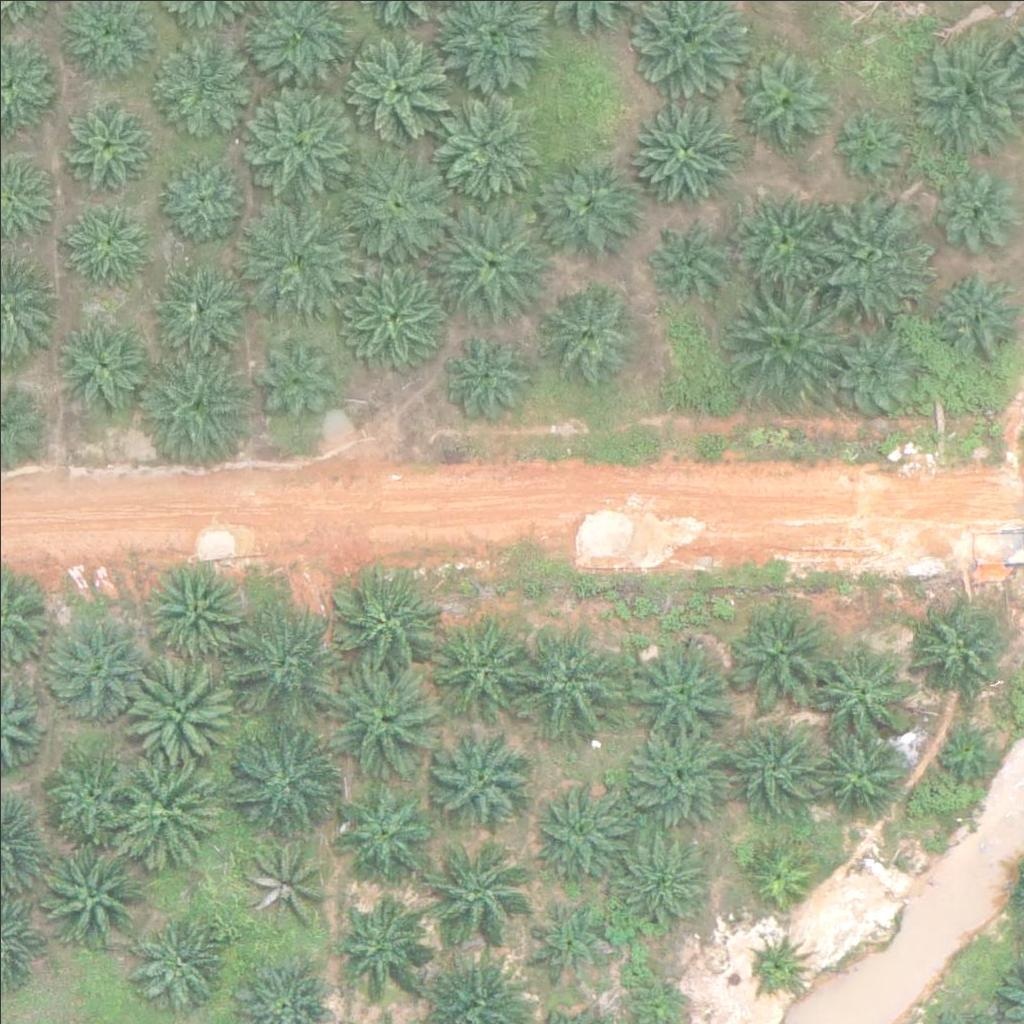Kelapa_Sawit: (239, 81, 352, 195), (909, 27, 1022, 141), (239, 197, 352, 310), (341, 27, 454, 140), (341, 256, 454, 369), (427, 86, 540, 199), (327, 562, 440, 675), (622, 721, 735, 834), (625, 633, 738, 746), (723, 594, 836, 707), (343, 149, 455, 263), (140, 354, 252, 468), (416, 840, 528, 954), (518, 623, 630, 737), (430, 207, 542, 320), (625, 91, 737, 204), (728, 278, 840, 391), (818, 199, 930, 312), (150, 24, 262, 137), (35, 839, 147, 952), (112, 756, 224, 869), (125, 658, 237, 771), (223, 603, 335, 716), (227, 724, 339, 837), (329, 662, 441, 775), (428, 605, 540, 718), (436, 325, 536, 426), (541, 152, 641, 253), (734, 192, 834, 293), (828, 325, 928, 426), (54, 94, 154, 195), (150, 255, 250, 356), (45, 621, 145, 722), (131, 910, 231, 1011), (335, 890, 435, 991), (433, 728, 533, 829), (533, 777, 633, 878), (725, 711, 825, 812), (810, 720, 910, 821), (908, 594, 1008, 695), (537, 276, 637, 376), (733, 51, 833, 151), (58, 197, 158, 297), (51, 321, 151, 421), (146, 559, 246, 659), (335, 787, 435, 887), (610, 830, 710, 930), (815, 641, 915, 741), (47, 750, 135, 838), (522, 896, 610, 984), (935, 266, 1022, 355), (248, 335, 335, 423), (641, 214, 728, 302), (828, 97, 915, 185), (935, 168, 1022, 256), (153, 150, 240, 238), (238, 837, 325, 925), (742, 832, 817, 907), (927, 708, 1002, 783), (745, 931, 808, 994)
